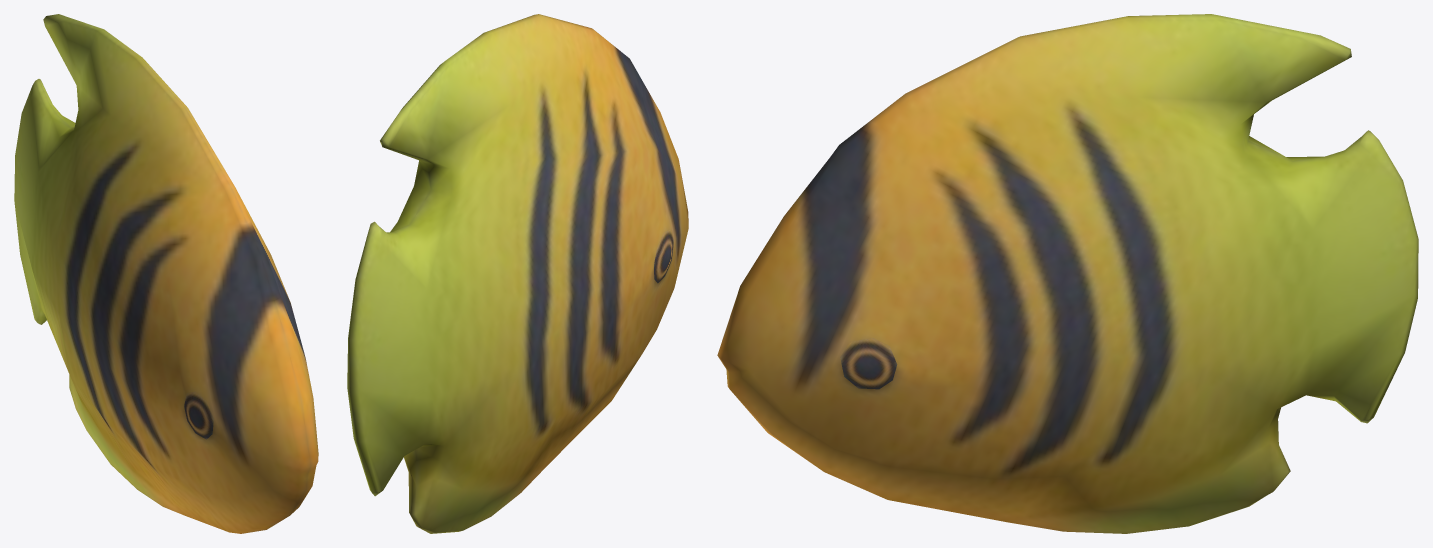
The model's file is Fish3.glb.
3 renders of one model, left to right at view 1: azimuth 30°, elevation 25°; view 2: azimuth 150°, elevation 25°; view 3: azimuth 270°, elevation 25°, orthographic. The views are drawn at different scales.
Parts seen in each view (by area): view 1: fish_03; view 2: fish_03; view 3: fish_03.
Part boxes in pixels (x1,y1,x2,y2): fish_03: (14,14,318,533); fish_03: (347,14,688,533); fish_03: (717,14,1418,533).
Bounding box in the file's own units: 0.5822 × 1.96 × 2.39.
Materials: 1 (1 with a texture image).
